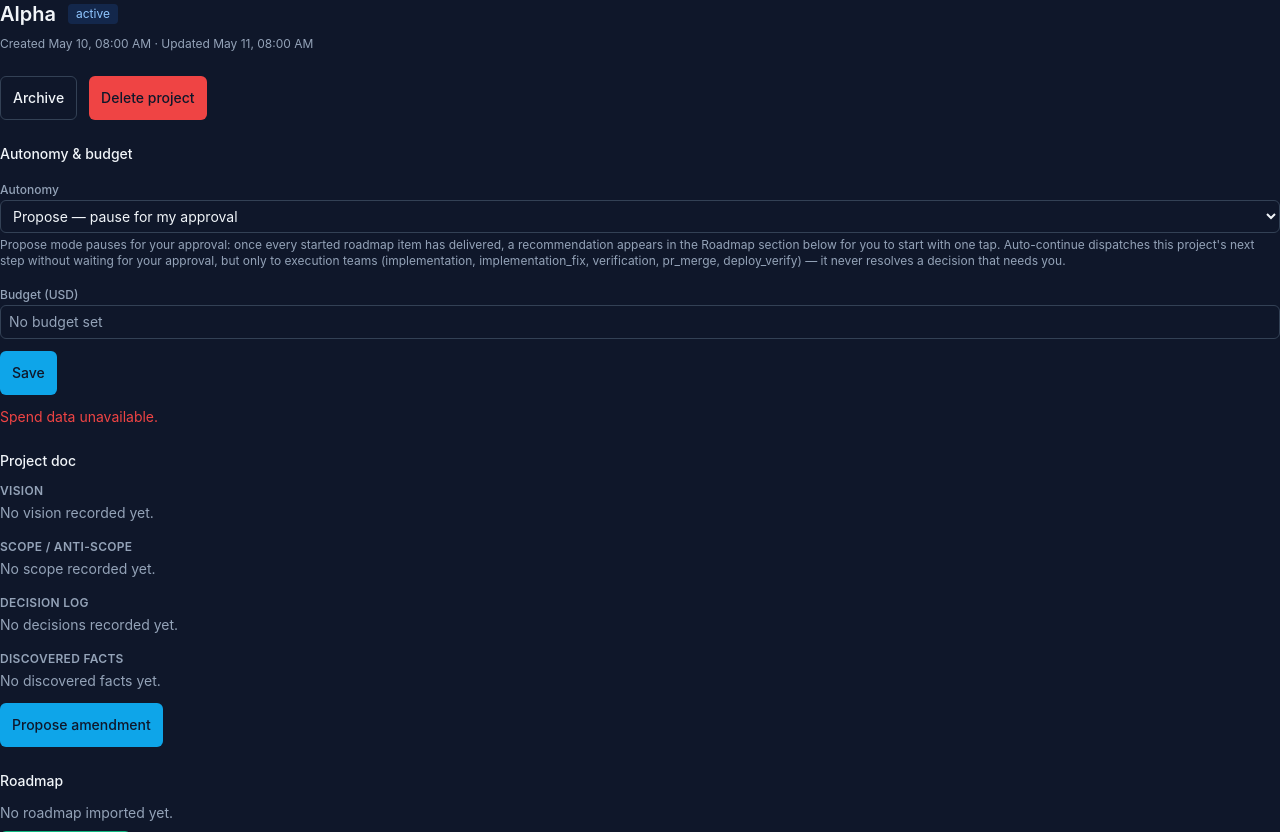
Scenario: Project › propose-amendment action › proposes an amendment and shows a plain confirmation with no link
The width and height of the screenshot is (1280, 832).
Click the button with test id "propose-amendment-button".
click(81, 725)  # box left=0, top=703, right=163, bottom=747
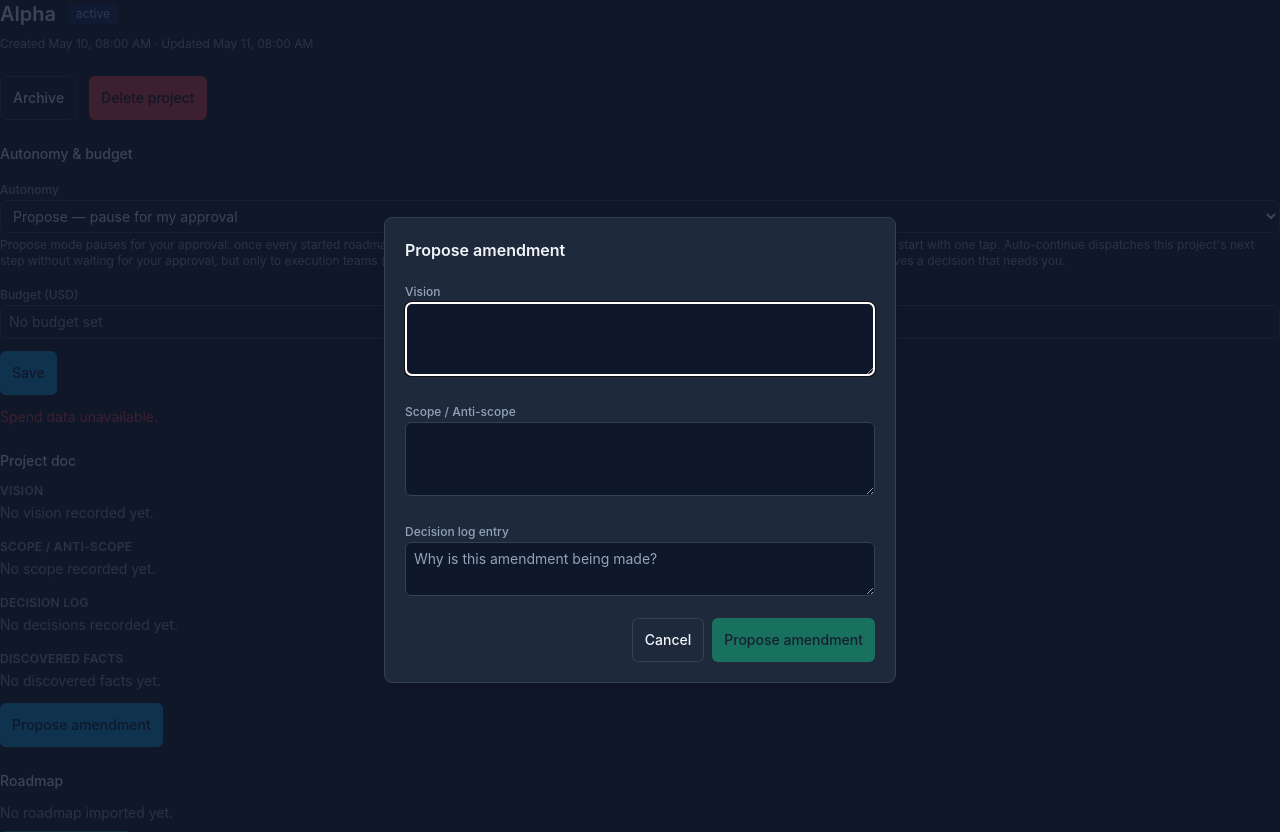
Type "V" into the text box with test id "amendment-vision".
click(640, 339); type("V")  # box left=405, top=302, right=875, bottom=376
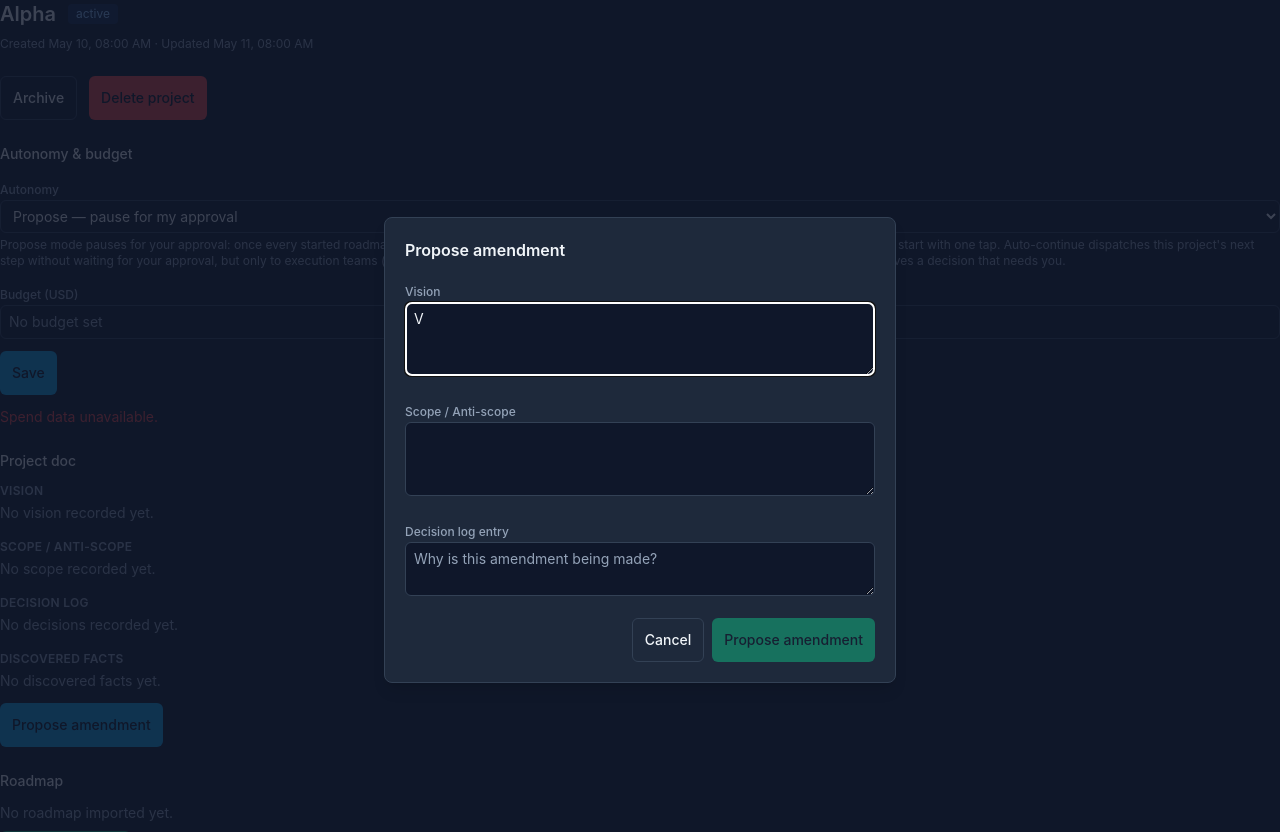
Type "S" into the text box with test id "amendment-scope".
click(640, 459); type("S")  # box left=405, top=422, right=875, bottom=496
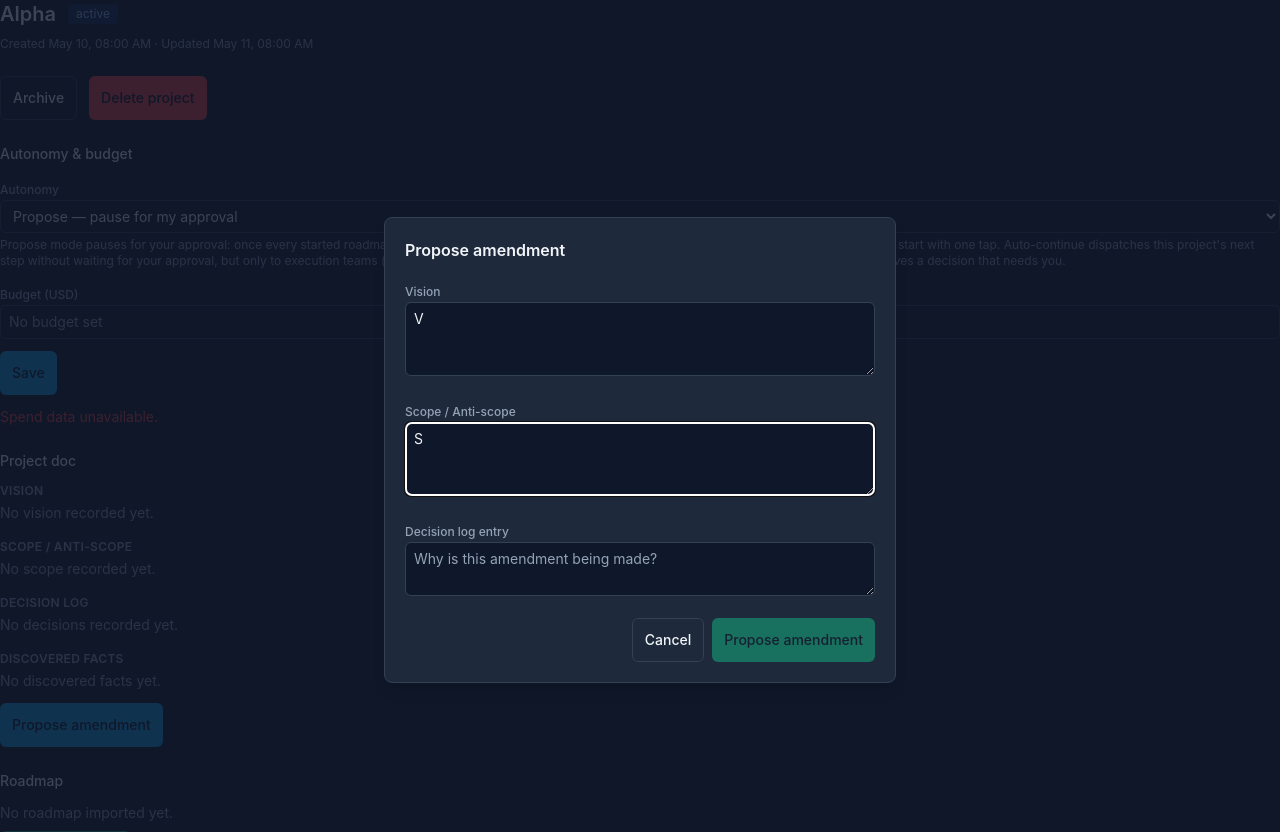
Type "D" into the text box with test id "amendment-decision-entry".
click(640, 569); type("D")  # box left=405, top=542, right=875, bottom=596
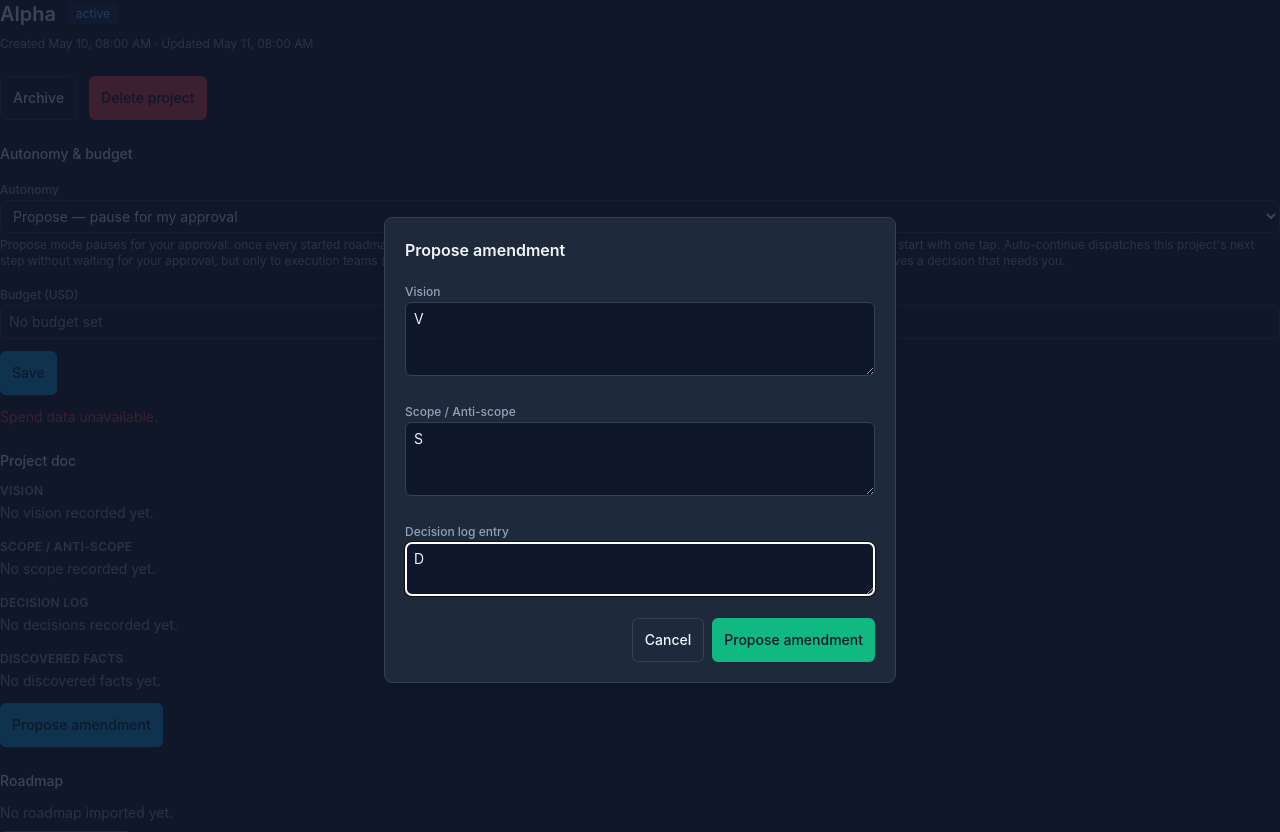
Click the button with test id "propose-amendment-submit".
click(794, 640)  # box left=712, top=618, right=875, bottom=662
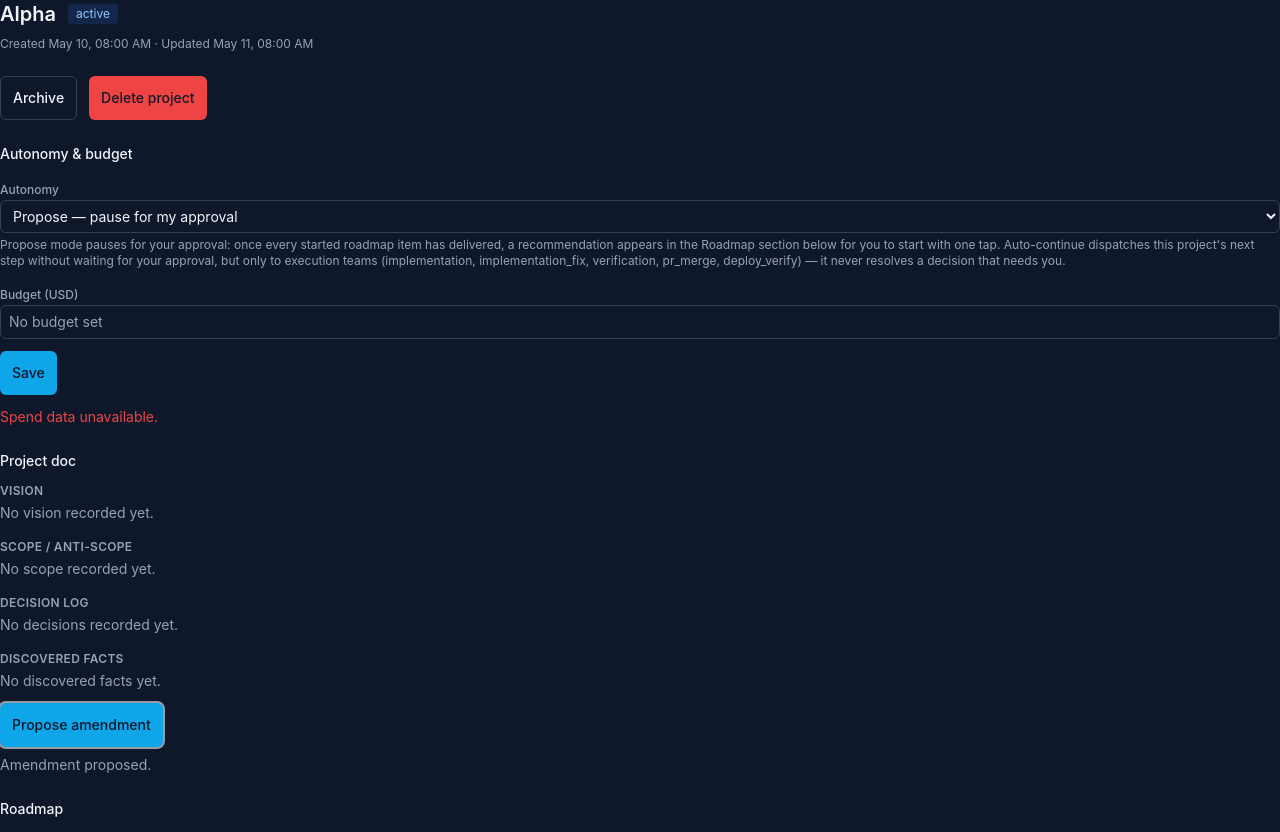
Expected: the text with test id "propose-amendment-success" does not show "inbox", left=0, top=756, right=151, bottom=773
Expected: the text with test id "propose-amendment-success" reads "Amendment proposed.", left=0, top=756, right=151, bottom=773
Expected: the dialog with test id "propose-amendment-dialog" is gone
